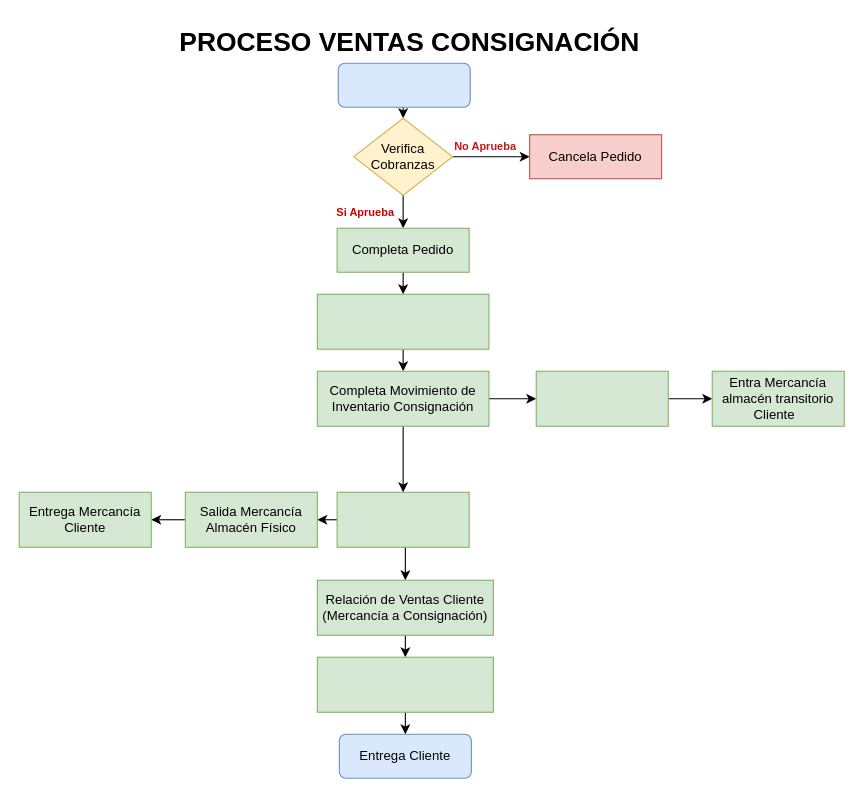
This 864x798 diagram has some shape labels left out. Each missing label, with the centre of its shape:
"Factura CxC Consignación" goes at point 404,684.
"Genera Movimiento Inventario Consignación" goes at point 402,321.
"Guía Despacho" goes at point 402,519.
"Pedido de Ventas (Asesor / Vendedor)" goes at point 403,84.
"Sale Mercancía almacén de ventas" goes at point 601,398.
